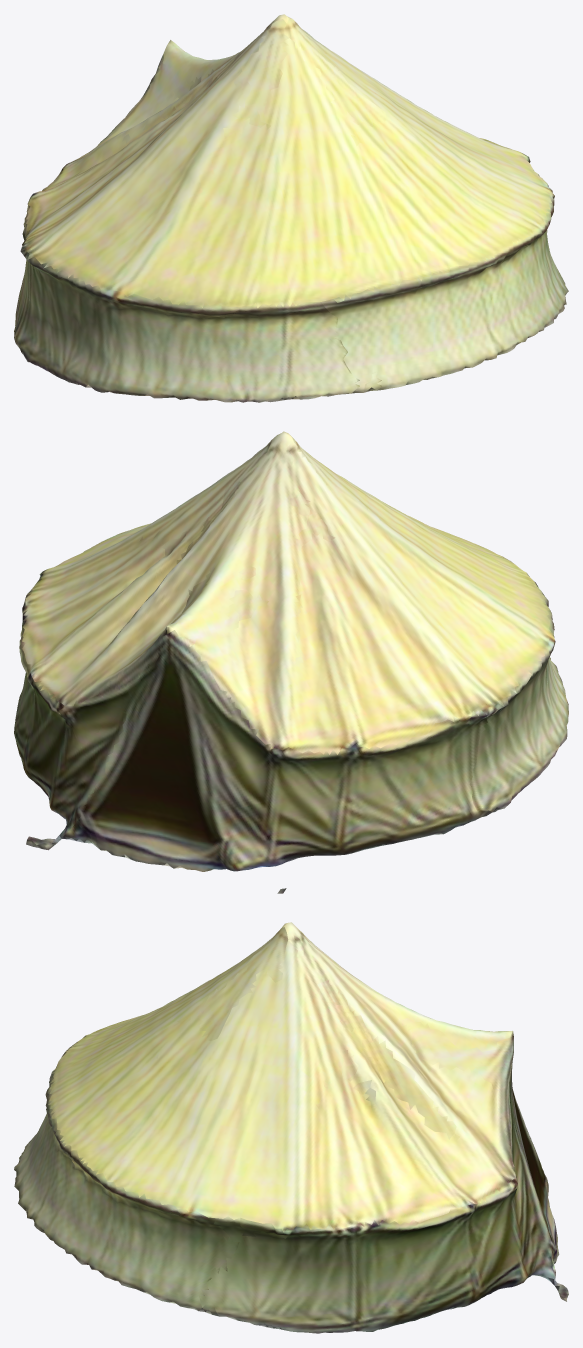
File: tile_4.glb
The picture shows the model from 3 angles, top to bottom: view 1: azimuth 30°, elevation 25°; view 2: azimuth 150°, elevation 25°; view 3: azimuth 270°, elevation 25°; orthographic projection. The views are drawn at different scales.
Parts seen in each view (by area): view 1: world; view 2: world; view 3: world.
Boxes of the visible parts, box(x1,y1,x2,y2) form: world: box(14, 14, 568, 402); world: box(14, 431, 568, 893); world: box(14, 922, 568, 1333).
Bounding box in the file's own units: 0.9617 × 0.6398 × 0.9802.
1 material, 1 textured.
